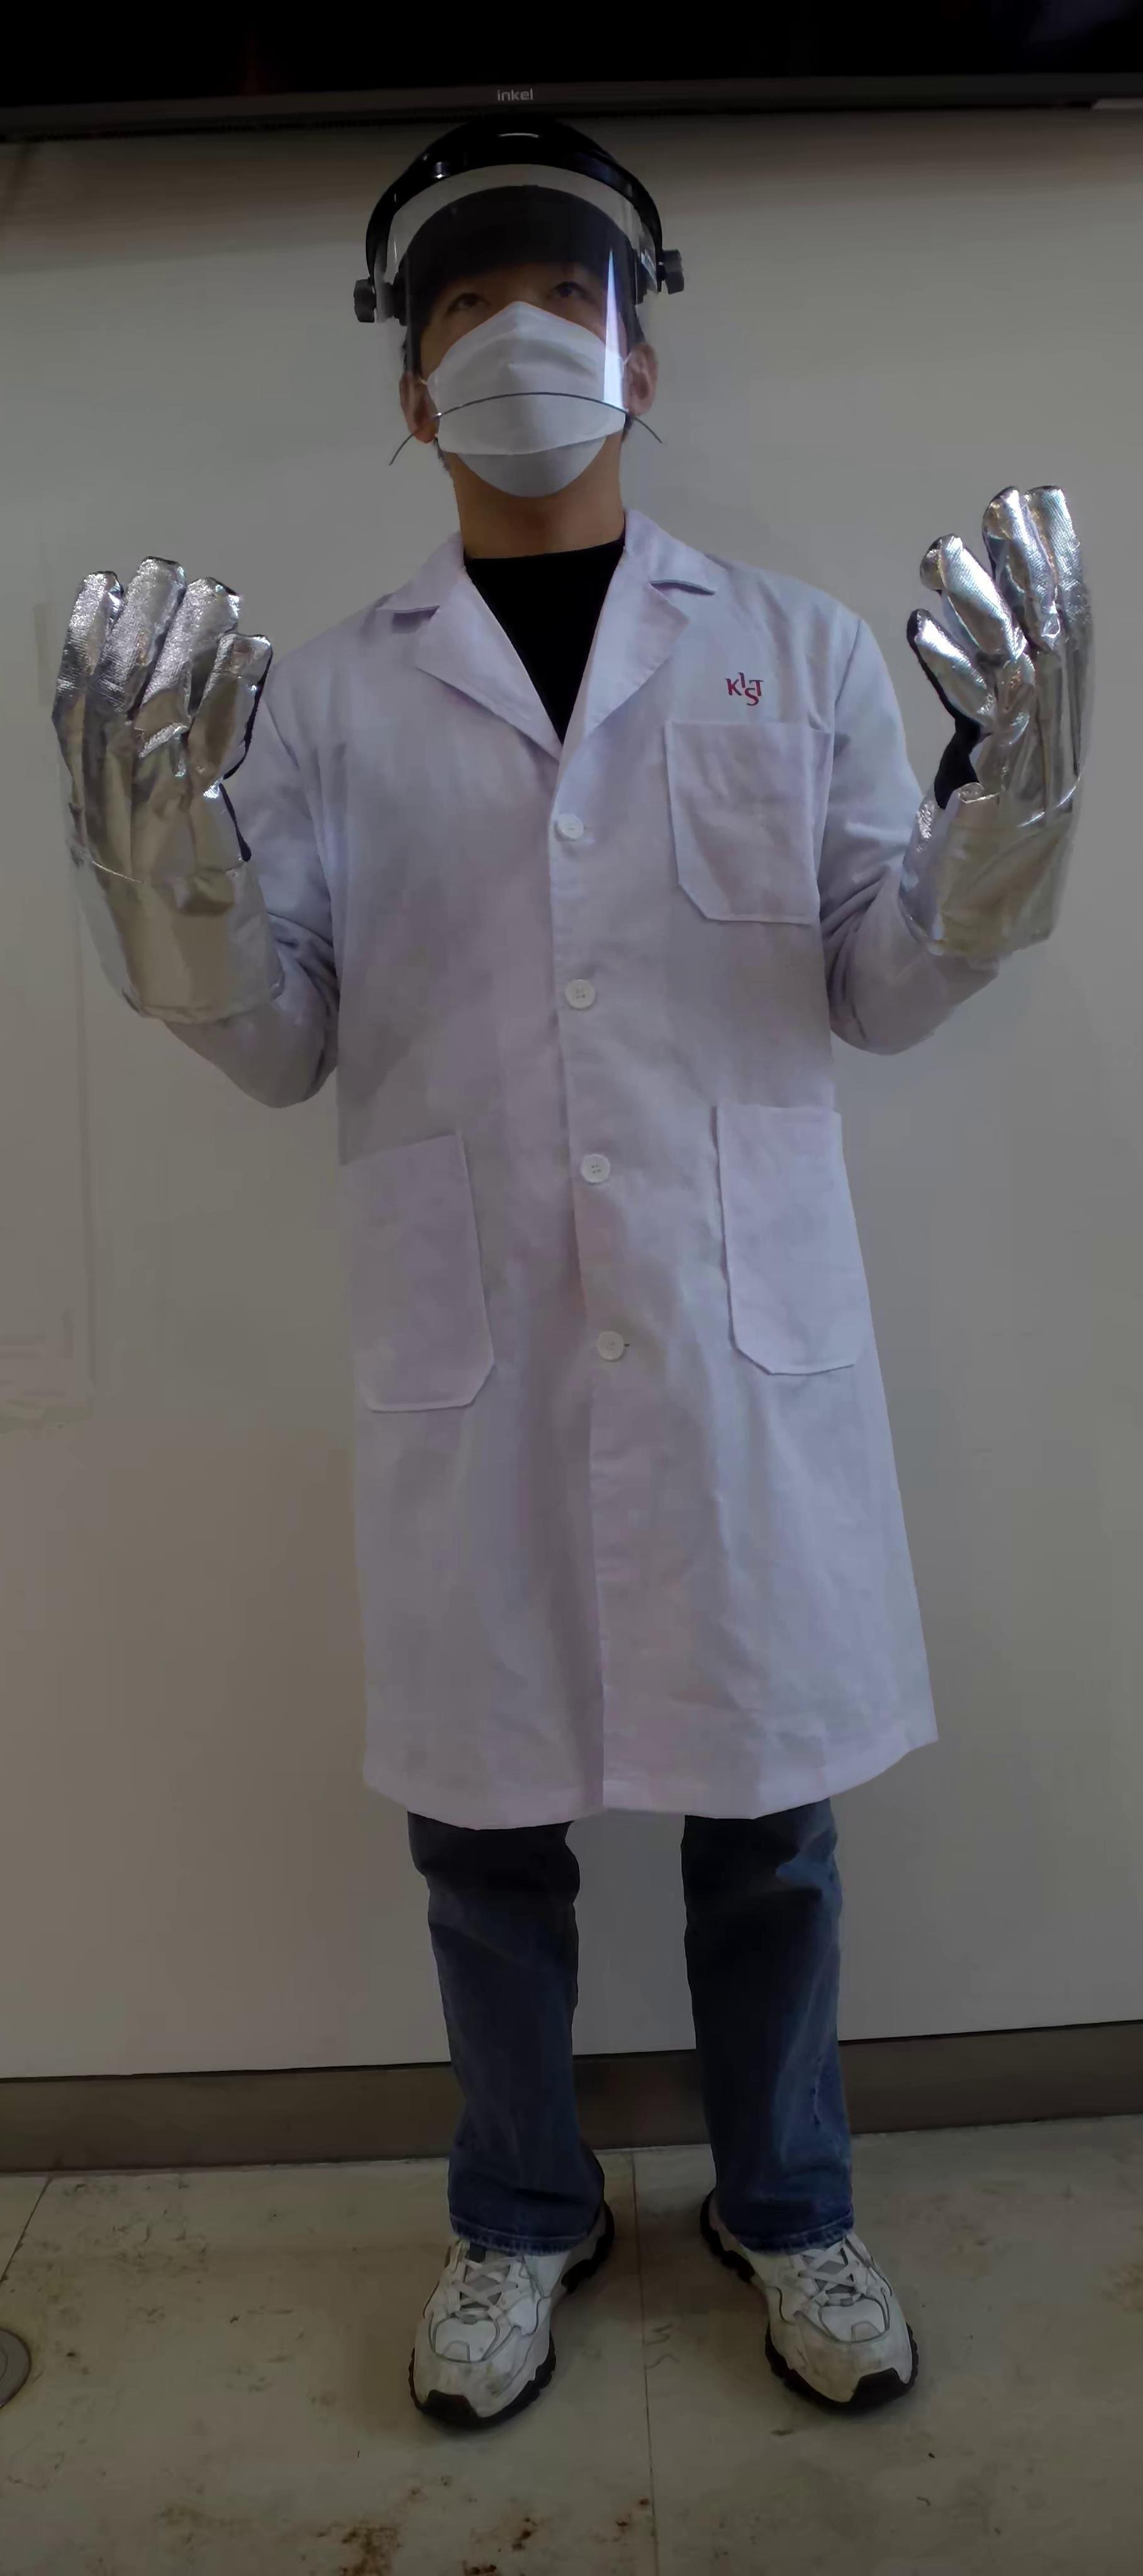lab_coat: (304, 573, 907, 1796)
